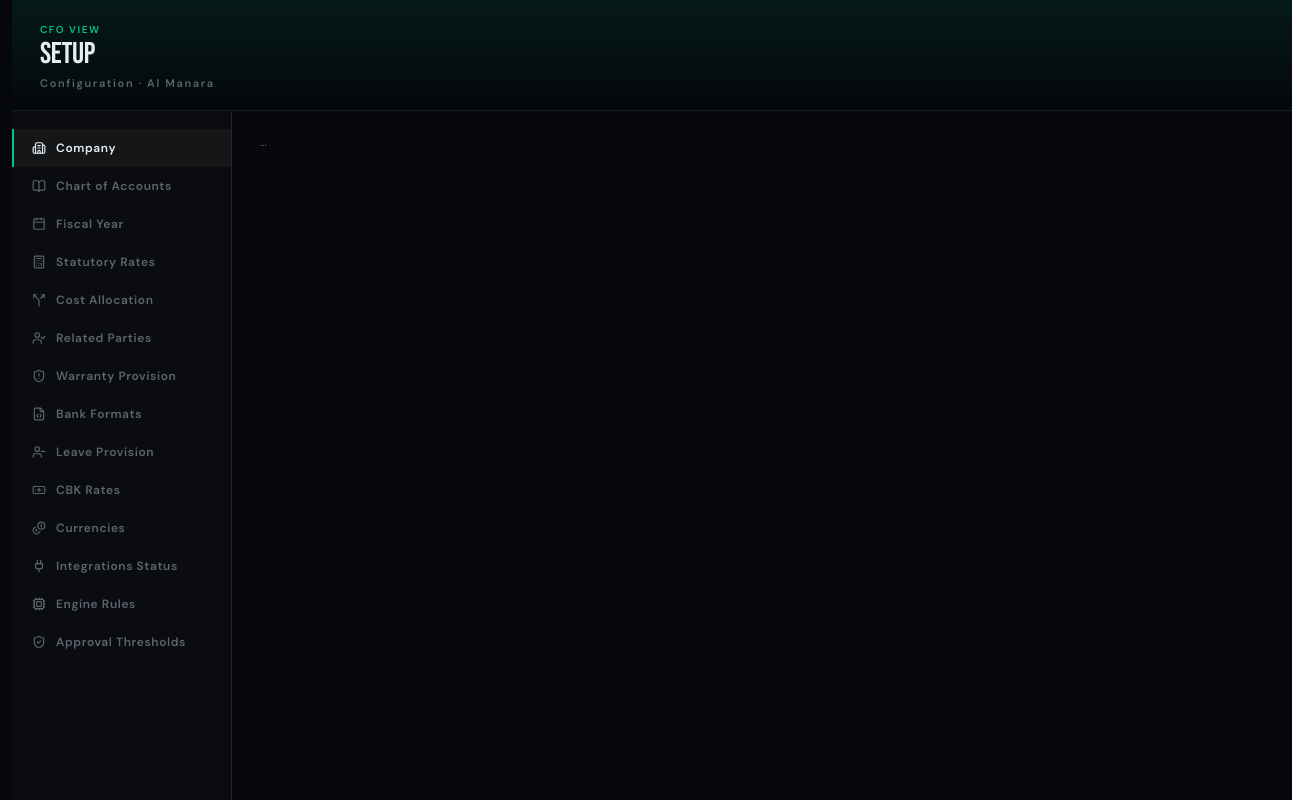
Scenario: HASEEB-448 — SetupScreen onboarding polish › CoA templates: unmapped industry falls back to General Business + shows no-match note
Step 1. Click the button "Chart of Accounts" → (122, 186), box [12,166,231,204]
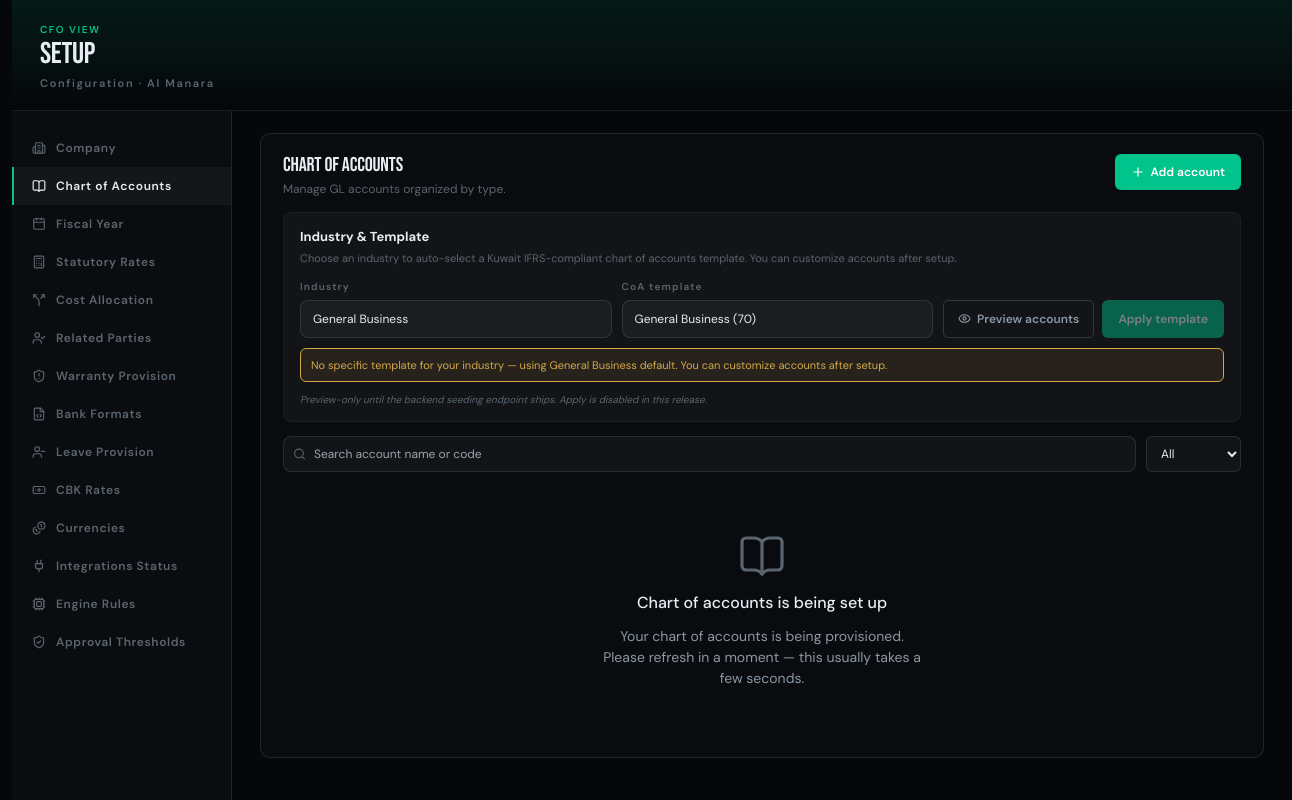
Check: the message with test id "coa-no-match-note" is shown, box [300,348,1224,382]
Check: the dropdown with test id "coa-template-select" shows "General Business (70)", box [622,300,933,338]
